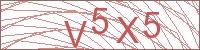5: (142, 9, 163, 39), (90, 6, 110, 35)
V: (62, 19, 88, 49)
X: (115, 15, 142, 44)
